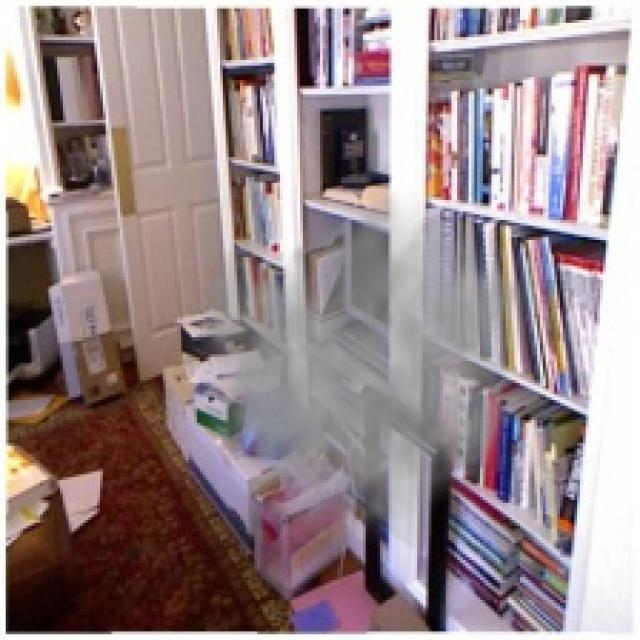Smoke: (168, 186, 534, 554)
